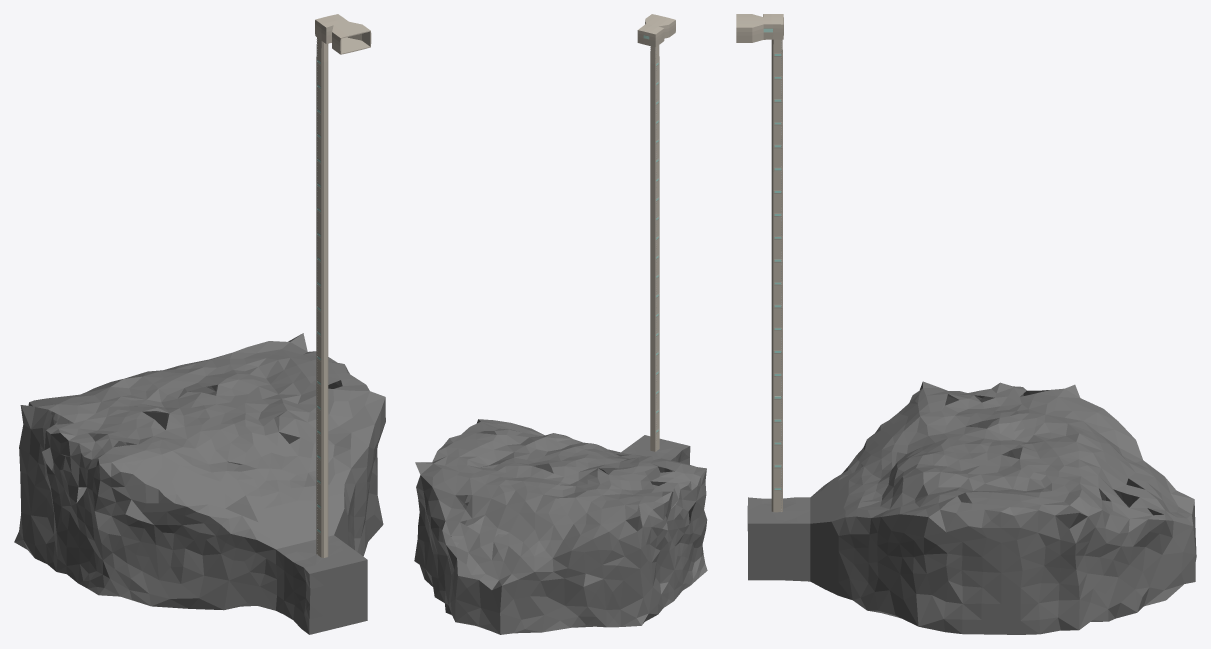
Rendered from Shaft.glb.
3 renders of one model, left to right at view 1: azimuth 30°, elevation 25°; view 2: azimuth 150°, elevation 25°; view 3: azimuth 270°, elevation 25°, orthographic. The views are drawn at different scales.
Visible parts, largest first — view 1: Arena-col, Shaft-col; view 2: Arena-col, Shaft-col; view 3: Arena-col, Shaft-col.
Part boxes in pixels (x1,y1,x2,y2): Arena-col: (14,333,385,634); Shaft-col: (315,14,371,557); Arena-col: (414,419,707,634); Shaft-col: (637,14,675,451); Arena-col: (747,381,1196,634); Shaft-col: (736,14,783,512).
Size of the model in its own units: 80.06 by 160 by 118.
